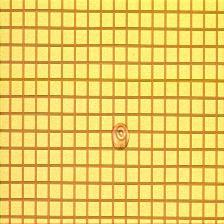PIQ PARTICLE: (106, 121, 138, 153)
